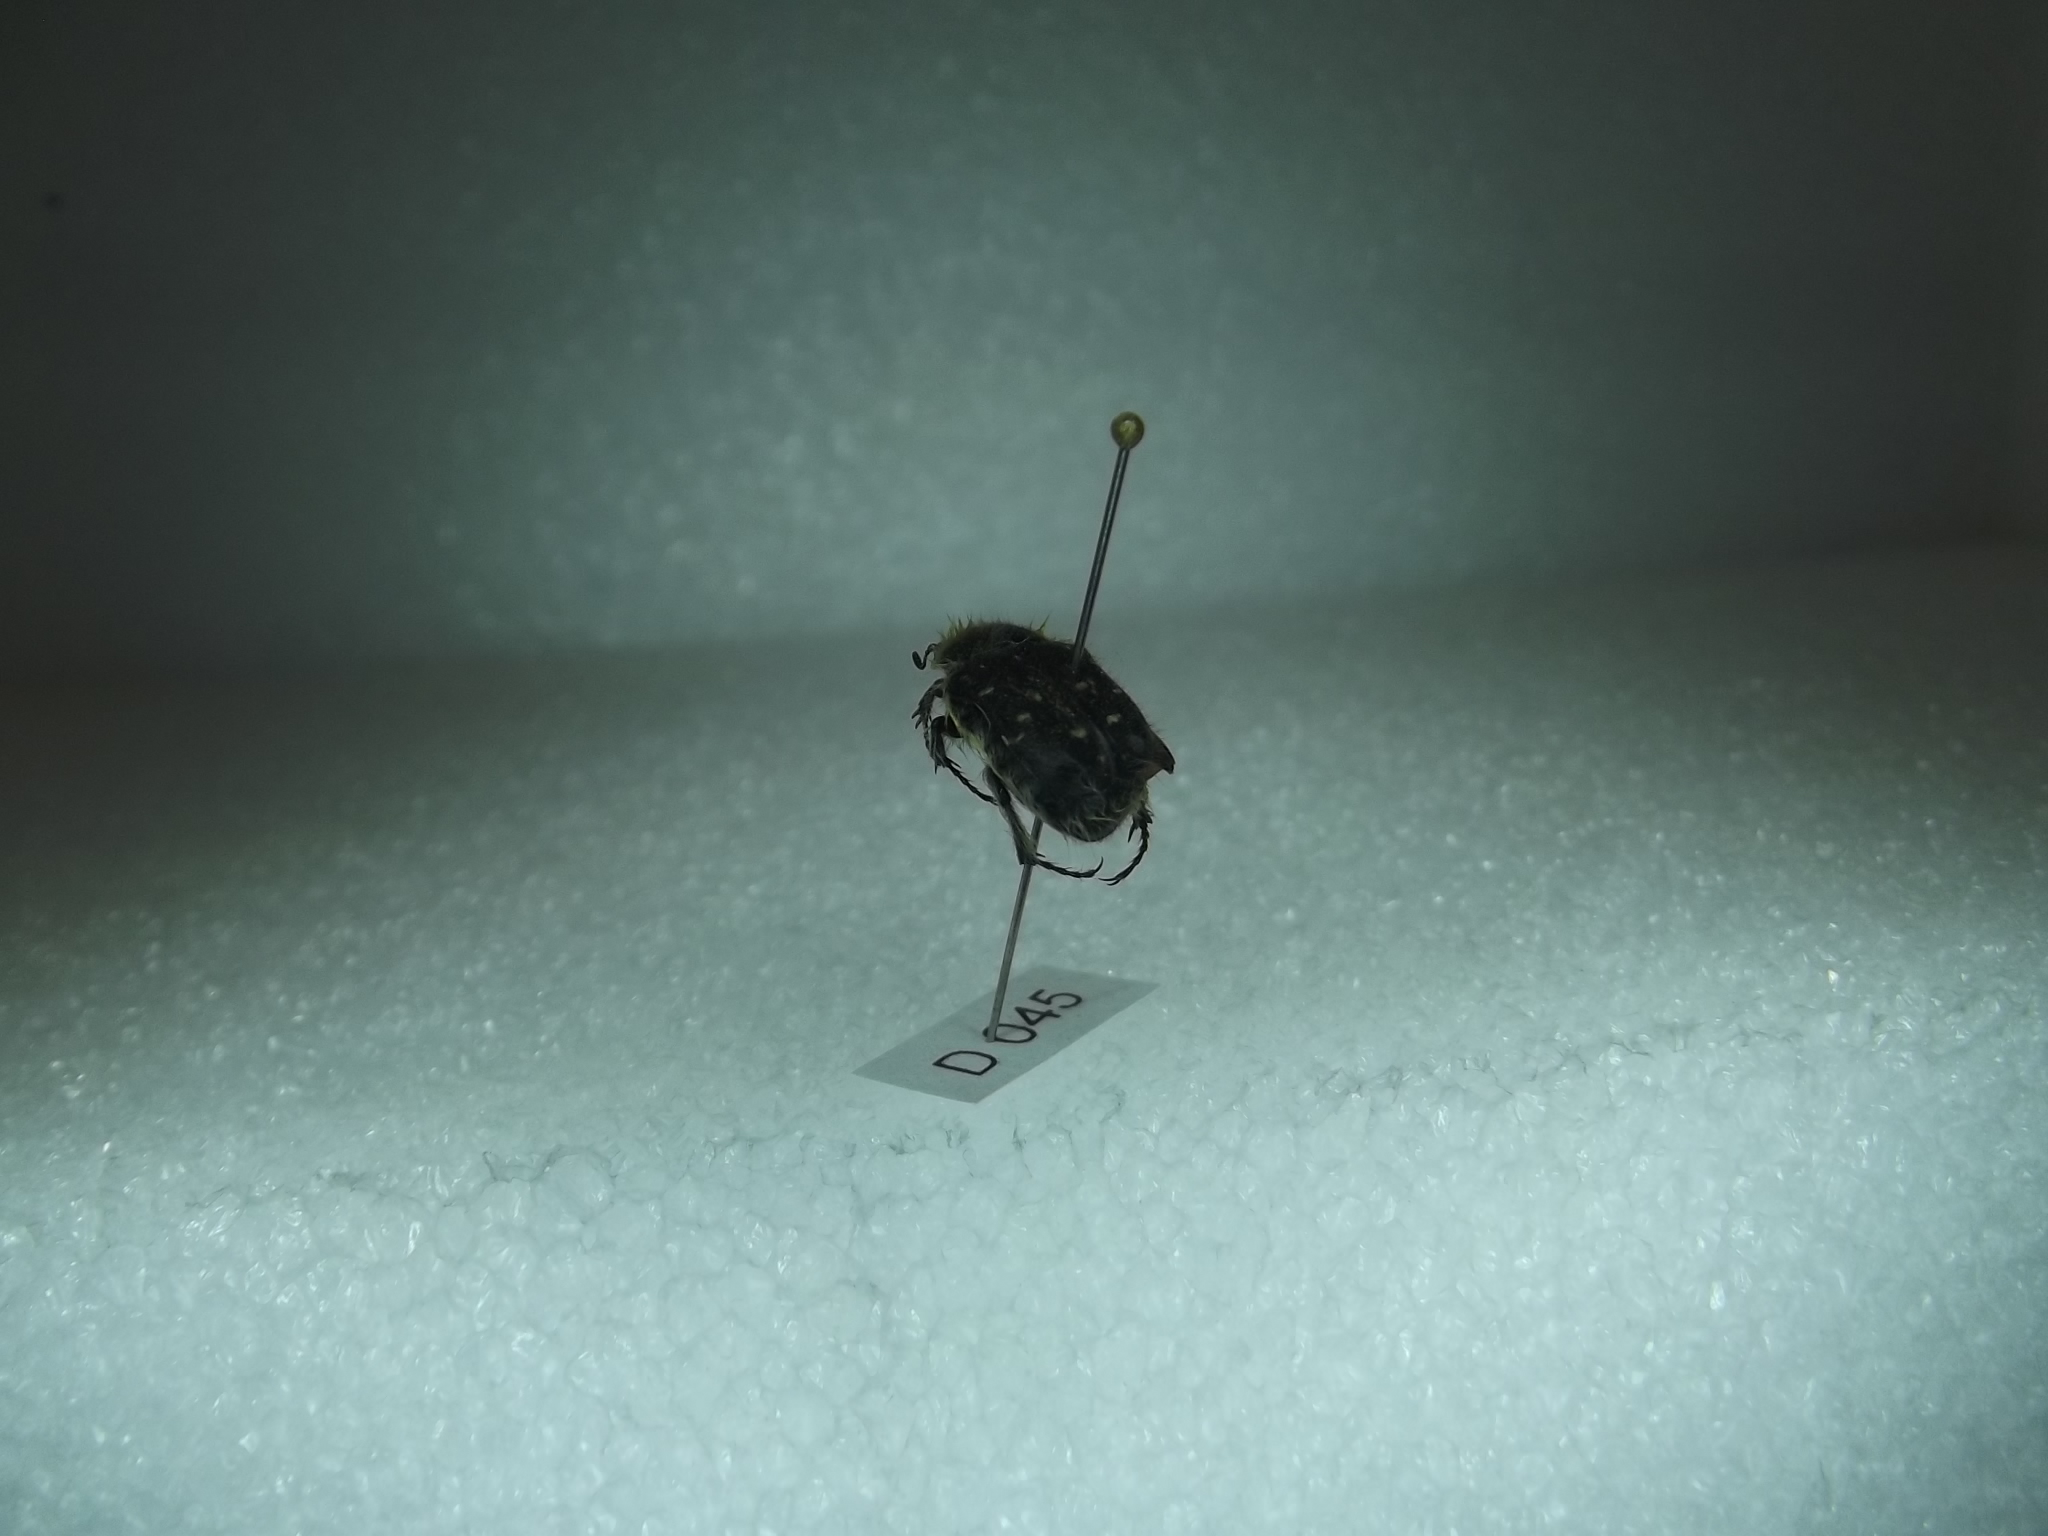Tropinota_hirta: (895, 605, 1188, 908)
